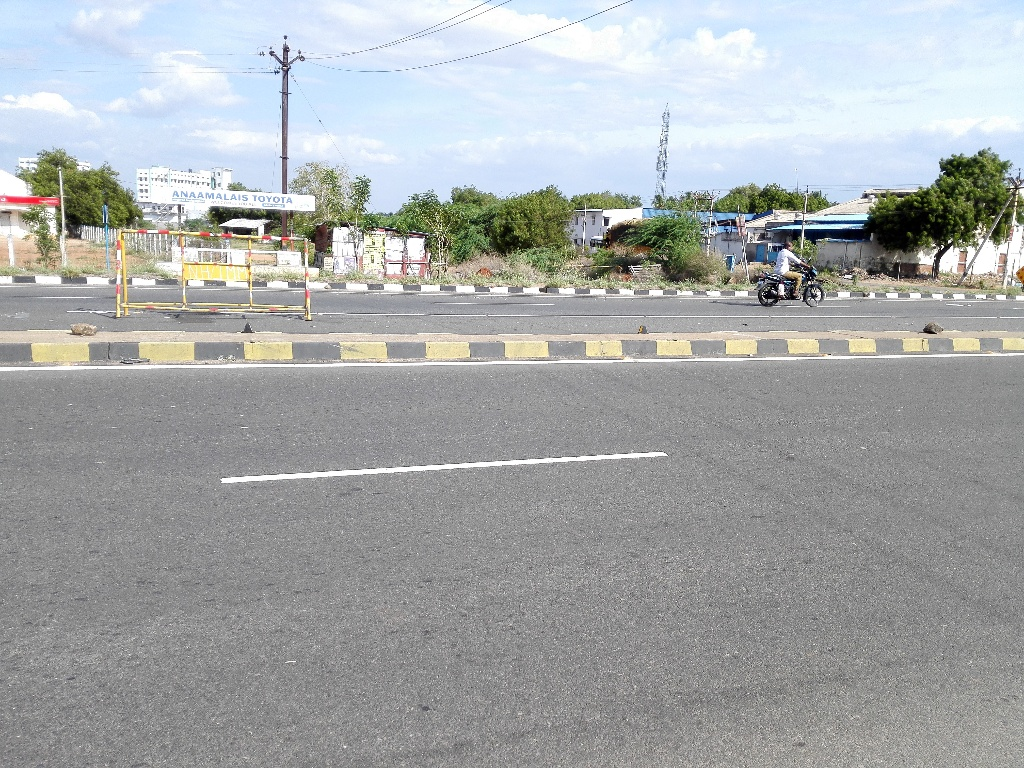biker: (748, 223, 832, 316)
nohelmet: (778, 234, 798, 258)
